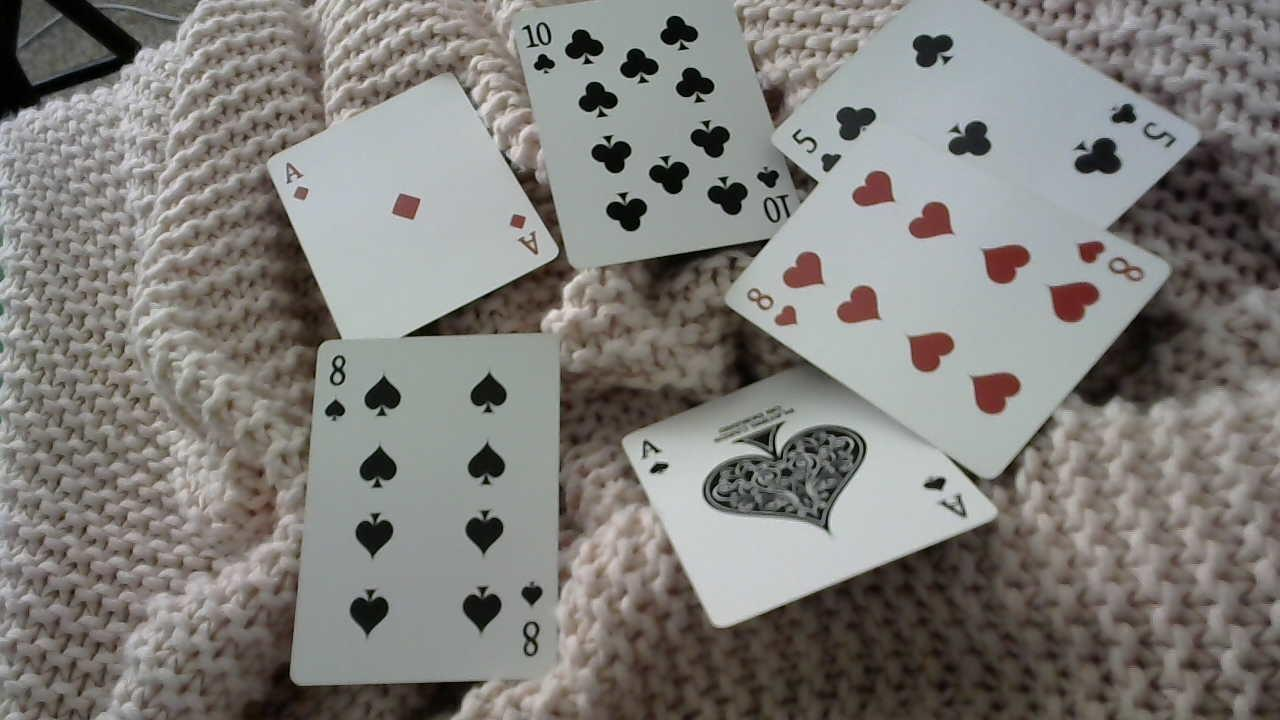10C: (753, 154, 797, 229), (520, 16, 564, 74)
5C: (1104, 92, 1178, 150), (790, 122, 848, 176)
8H: (1069, 232, 1149, 291), (744, 282, 802, 331)
8S: (517, 576, 548, 665), (321, 352, 351, 427)
AD: (499, 208, 545, 263), (277, 151, 313, 204)
AS: (919, 469, 976, 523), (635, 432, 673, 479)
